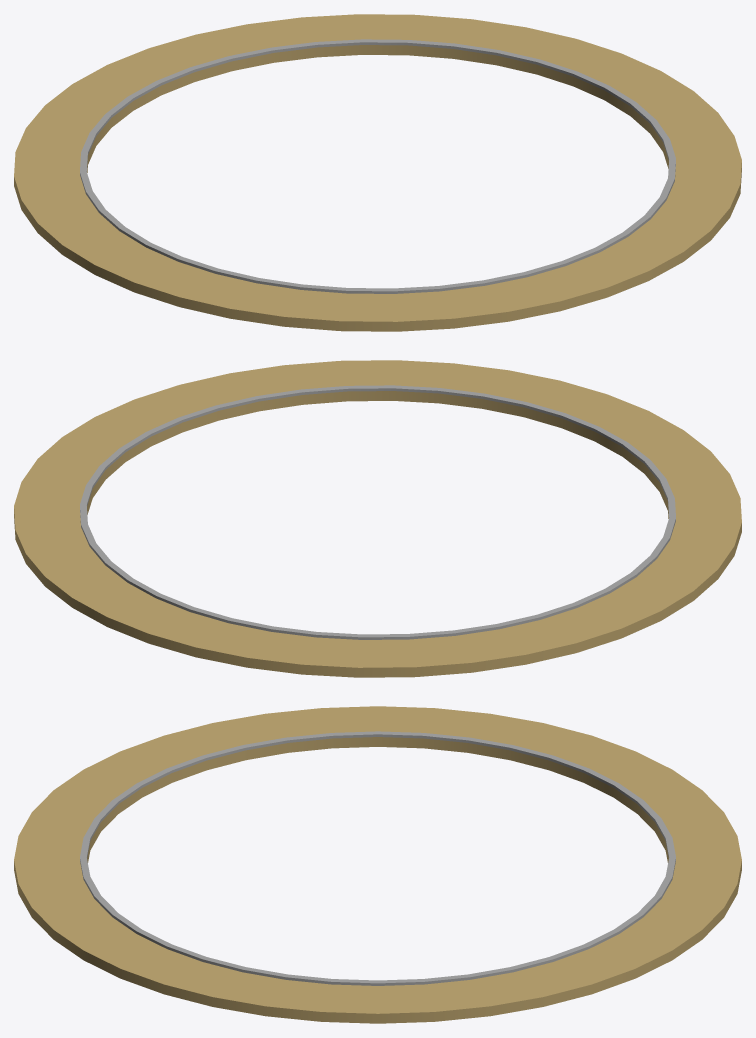
The model's file is Ring1.fbx.
The picture shows the model from 3 angles, top to bottom: view 1: azimuth 30°, elevation 25°; view 2: azimuth 150°, elevation 25°; view 3: azimuth 270°, elevation 25°; orthographic projection.
Parts seen in each view (by area): view 1: Ring1; view 2: Ring1; view 3: Ring1.
Boxes of the visible parts, box(x1,y1,x2,y2) form: Ring1: box(14, 14, 741, 331); Ring1: box(14, 360, 741, 677); Ring1: box(14, 706, 741, 1023).
Size of the model in its own units: 100 by 1.9 by 100.
